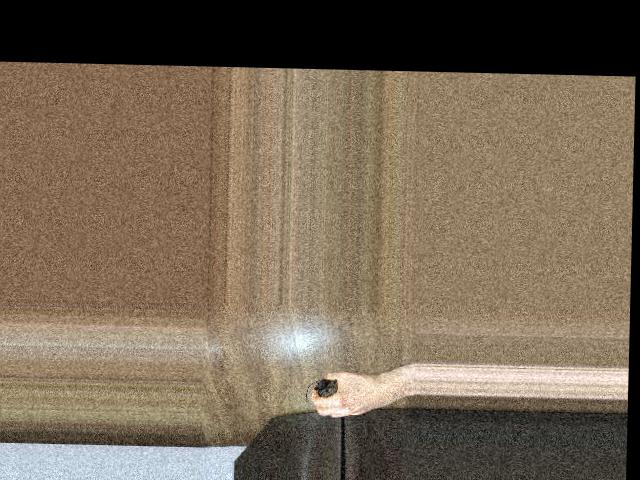beet: (304, 378, 337, 402)
